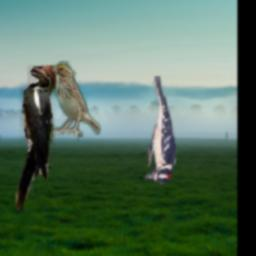Sparrow: (52, 62, 102, 138)
Woodpecker: (17, 64, 61, 210), (146, 76, 178, 185)
